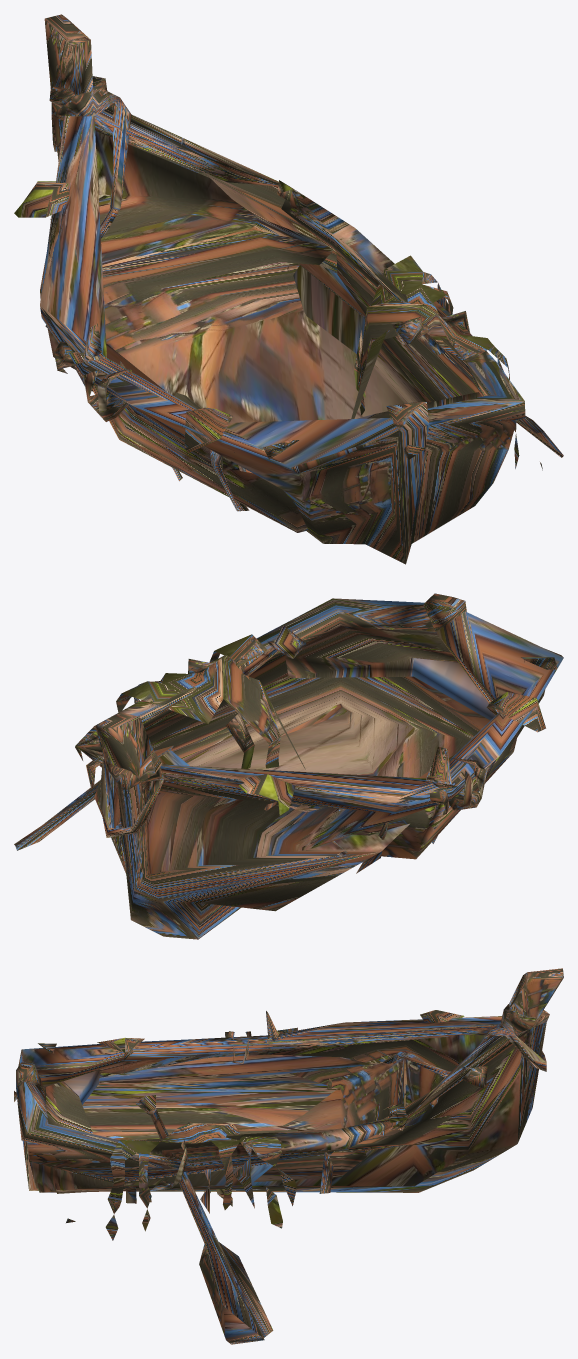
Rendered from capsized_rowboat.glb.
3 views of the same model, one above another, from view 1: azimuth 30°, elevation 25°; view 2: azimuth 150°, elevation 25°; view 3: azimuth 270°, elevation 25° (orthographic). The views are drawn at different scales.
Visible parts, largest first — view 1: tripo_node_fb3ef7d1-3180-413d-8495-e4611d98d883; view 2: tripo_node_fb3ef7d1-3180-413d-8495-e4611d98d883; view 3: tripo_node_fb3ef7d1-3180-413d-8495-e4611d98d883.
Boxes of the visible parts, x1,y1,x2,y2 form: tripo_node_fb3ef7d1-3180-413d-8495-e4611d98d883: (14, 14, 563, 564); tripo_node_fb3ef7d1-3180-413d-8495-e4611d98d883: (14, 593, 563, 939); tripo_node_fb3ef7d1-3180-413d-8495-e4611d98d883: (14, 968, 563, 1344).
Size of the model in its own units: 0.4613 by 0.3306 by 0.6187.
Materials: 1 (1 with a texture image).
